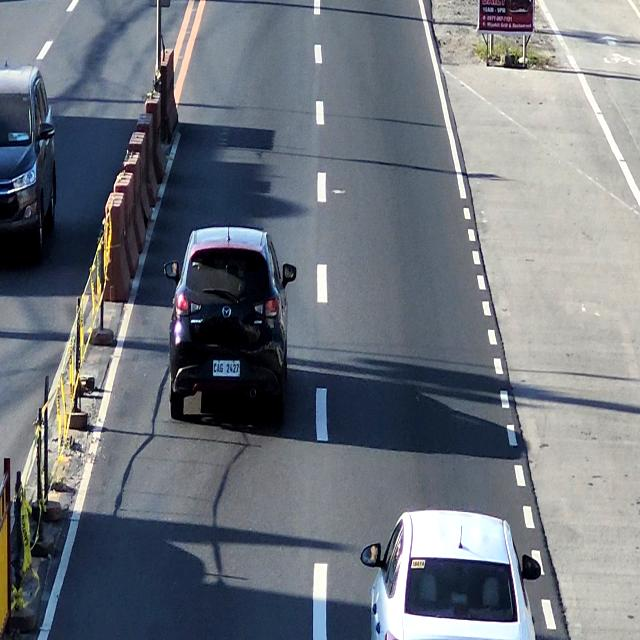Car: (169, 227, 291, 429), (365, 509, 534, 640)
License-Plate: (213, 360, 241, 377)
